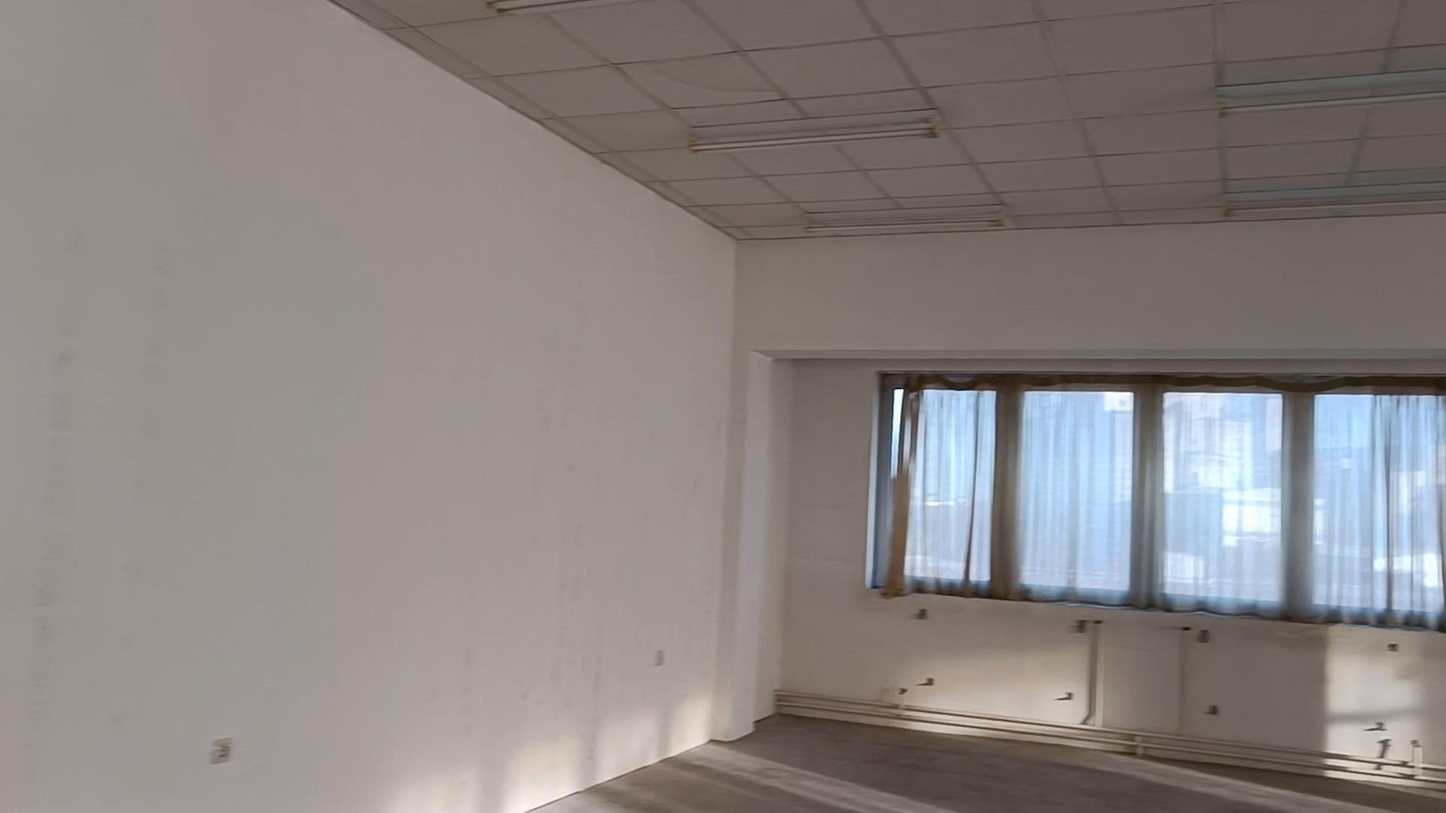ceiling: (333, 0, 1445, 239)
floor: (533, 715, 1445, 812)
wall: (0, 0, 1445, 812), (778, 588, 1442, 763), (1124, 616, 1445, 758)
